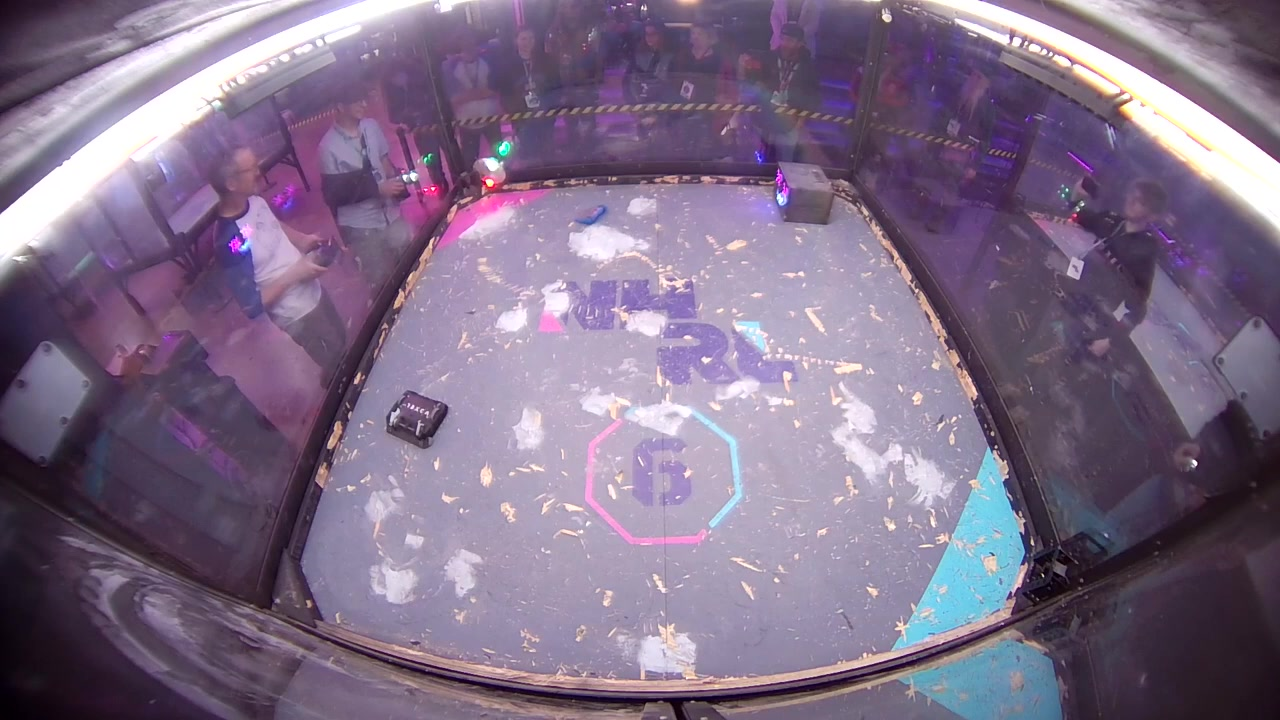combatbot: (386, 389, 449, 447), (473, 159, 509, 189)
housebot: (774, 163, 833, 225)
minibot: (575, 202, 612, 227)
